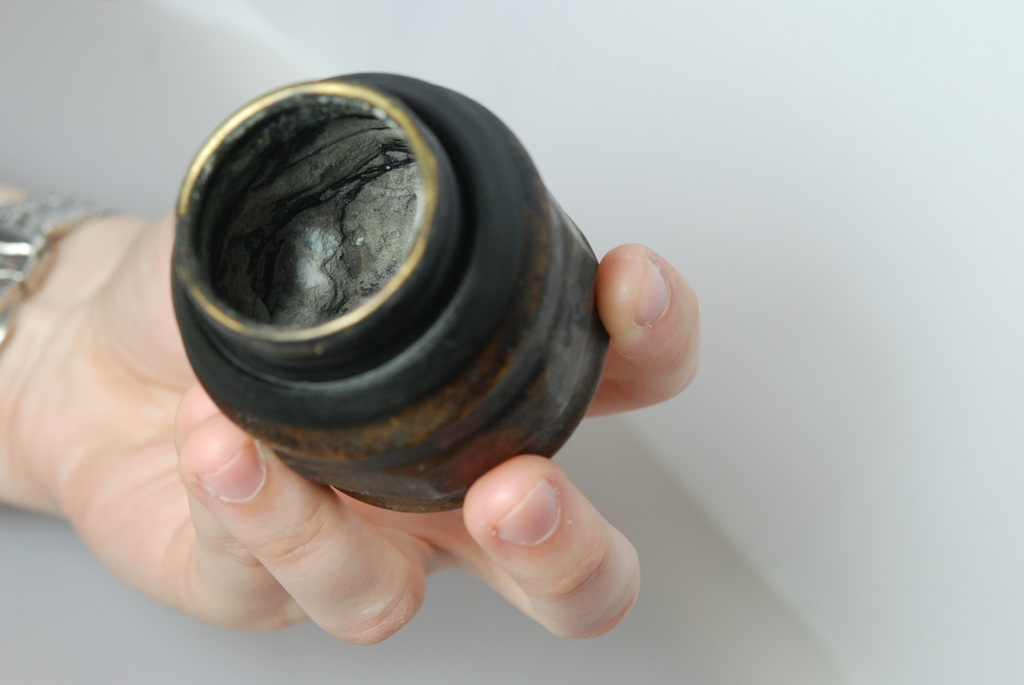Human_hand: (48, 207, 700, 638)
